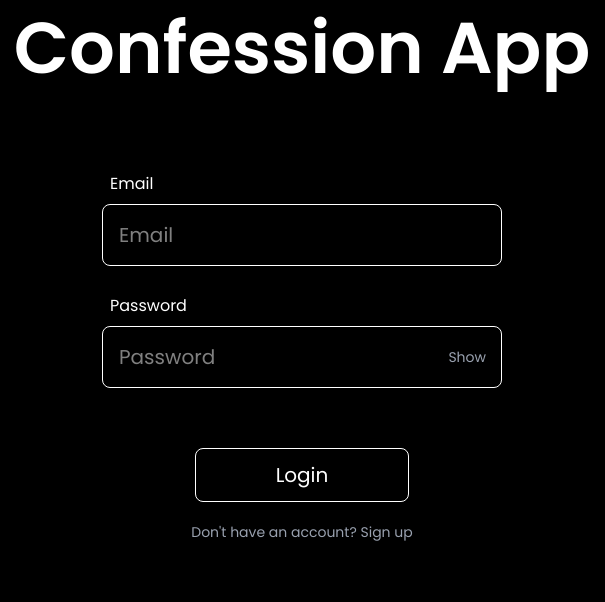
Form › shows error for invalid credentials
The width and height of the screenshot is (605, 602).
Type "wrong@test.com" into the field with placeholder "Email" at (302, 235), box [102, 204, 502, 266]
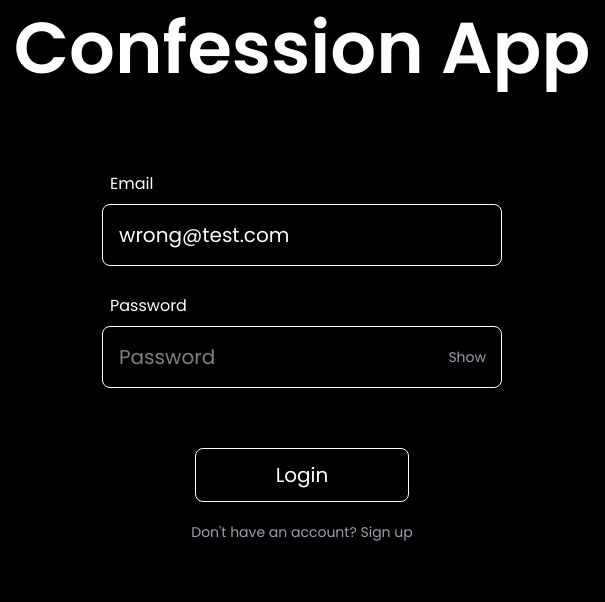
Type "wrongpass" into the password field with placeholder "Password" at (302, 357), box [102, 326, 502, 388]
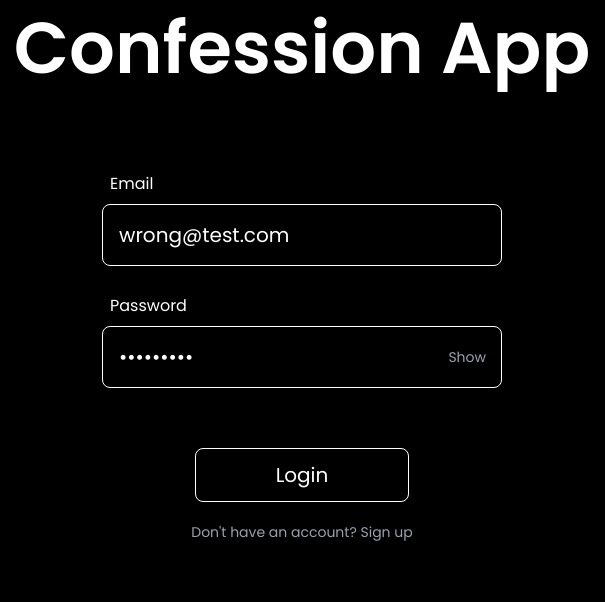
Click the button "Login" at (302, 475), box [195, 448, 409, 502]
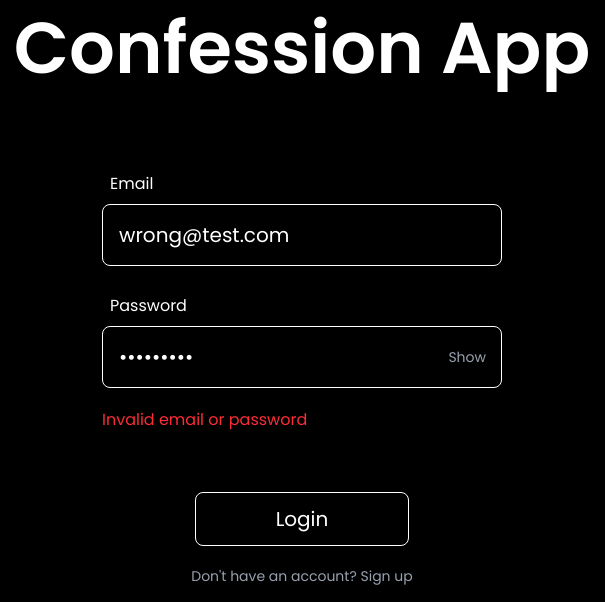
Expected: the text "Invalid email or password" is shown, [102, 408, 307, 431]
